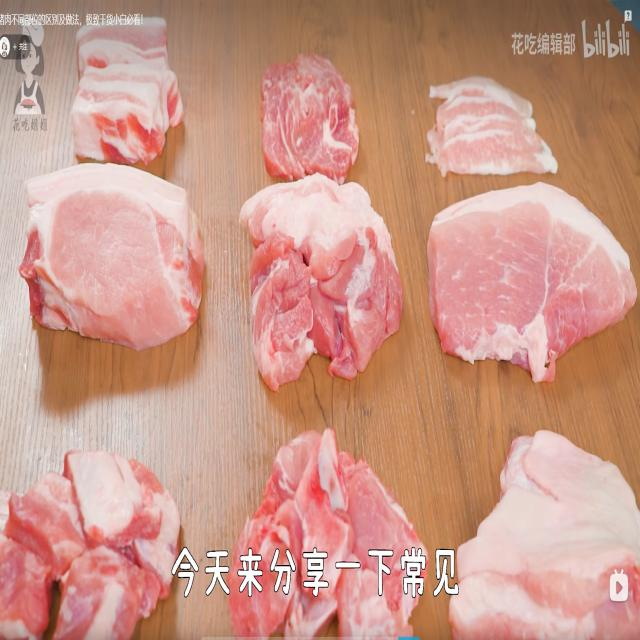Pork: (235, 420, 428, 635), (243, 178, 418, 415), (468, 408, 638, 640), (20, 159, 211, 364), (2, 431, 181, 640), (440, 196, 632, 386), (73, 15, 196, 159), (260, 46, 370, 178), (438, 77, 560, 172)
